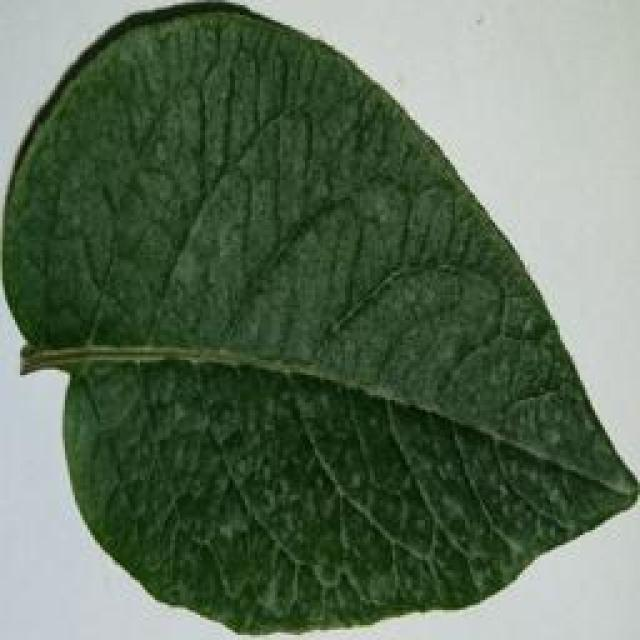Potato_Healthy: (8, 4, 632, 629)
